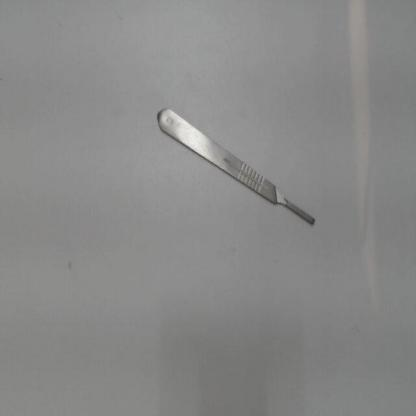No.4 BP Handle: (152, 90, 326, 245)
